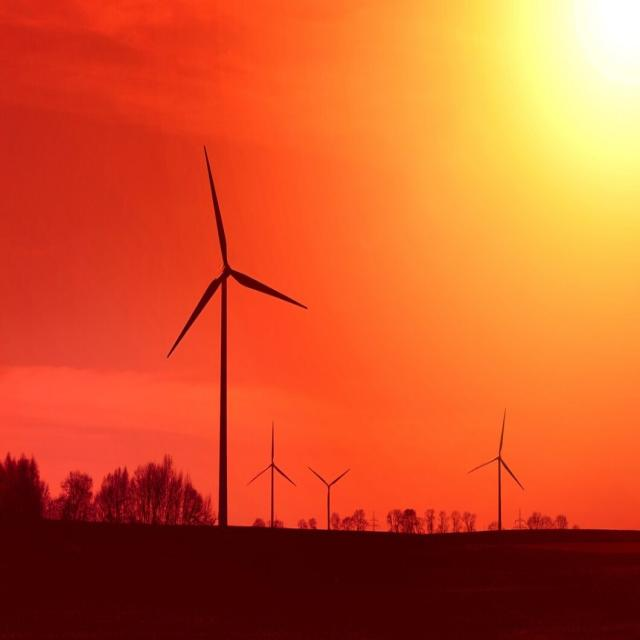solid-blade: (168, 277, 222, 357), (230, 269, 308, 309), (204, 147, 228, 264)
wind-turbine: (168, 147, 306, 527), (468, 408, 524, 532), (249, 422, 296, 528)
